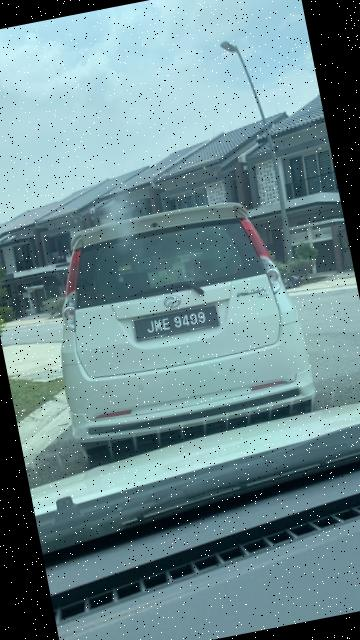License_Plate: (133, 299, 220, 344)
car: (29, 186, 317, 457)
